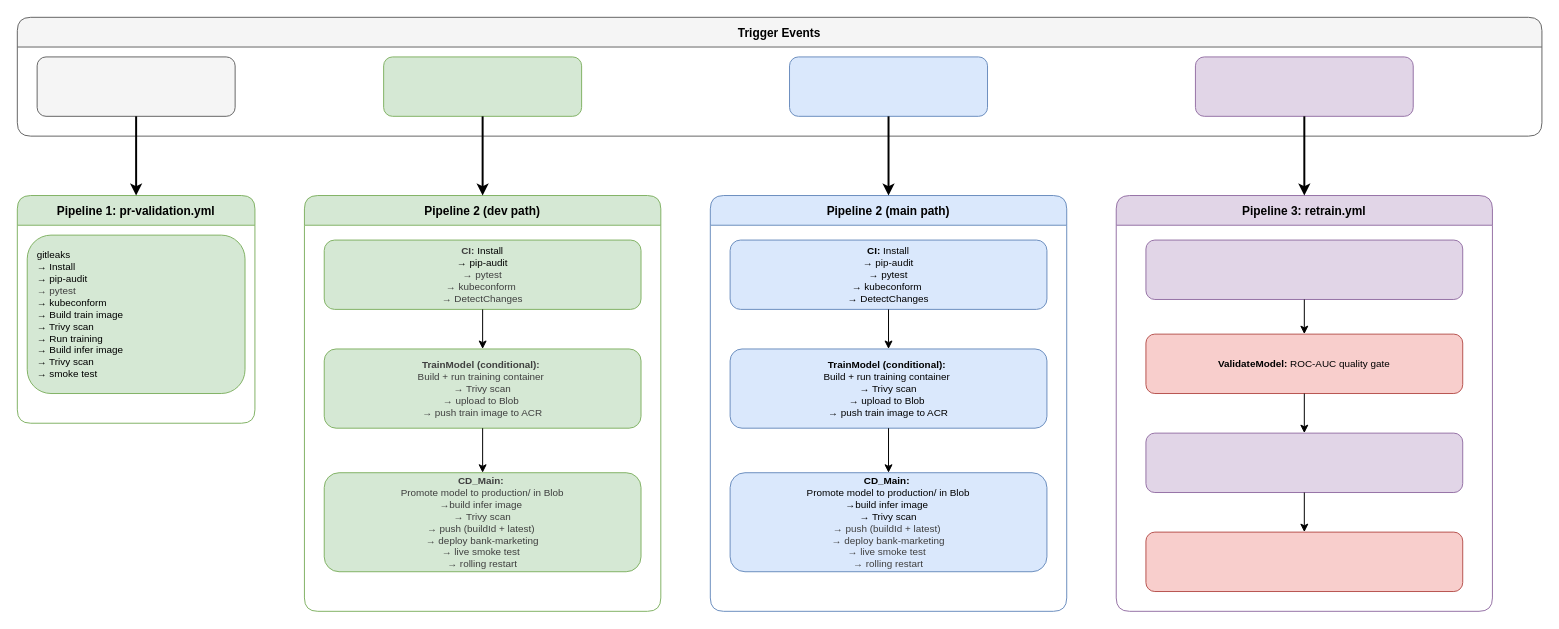
Image size: 1559x629. Some labels were removed from this diagram. Each missing label, with the centre of its shape:
"DeployProduction: Approval gate → deploy bank-marketing" goes at [1304,561].
"DeployStaging: Build infer image → deploy bank-marketing-dev" goes at [1304,462].
"PR opened / updated (targeting dev or main)" goes at [135,86].
"Push to dev (merge)" goes at [482,86].
"Push to main (merge)" goes at [888,86].
"Retrain: Pull train-latest from ACR → run training on new data" goes at [1304,269].
"Weekly schedule / manual / drift alert" goes at [1303,86].
